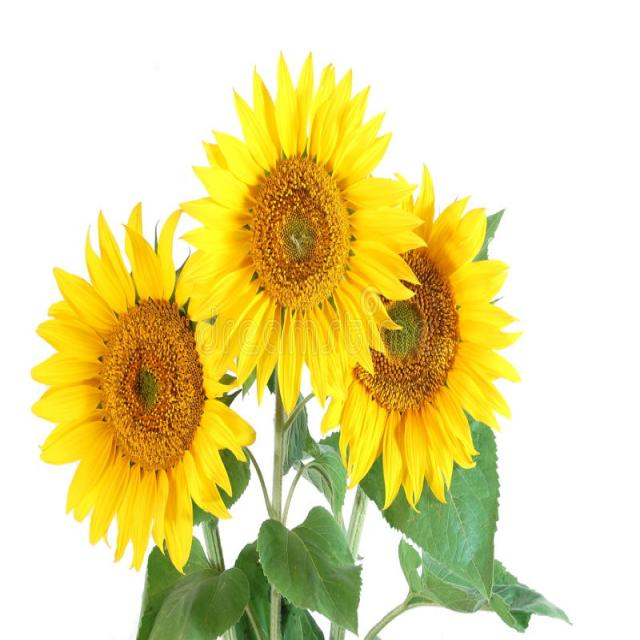sunflower: (19, 165, 273, 574), (175, 40, 421, 438), (328, 179, 514, 506)
